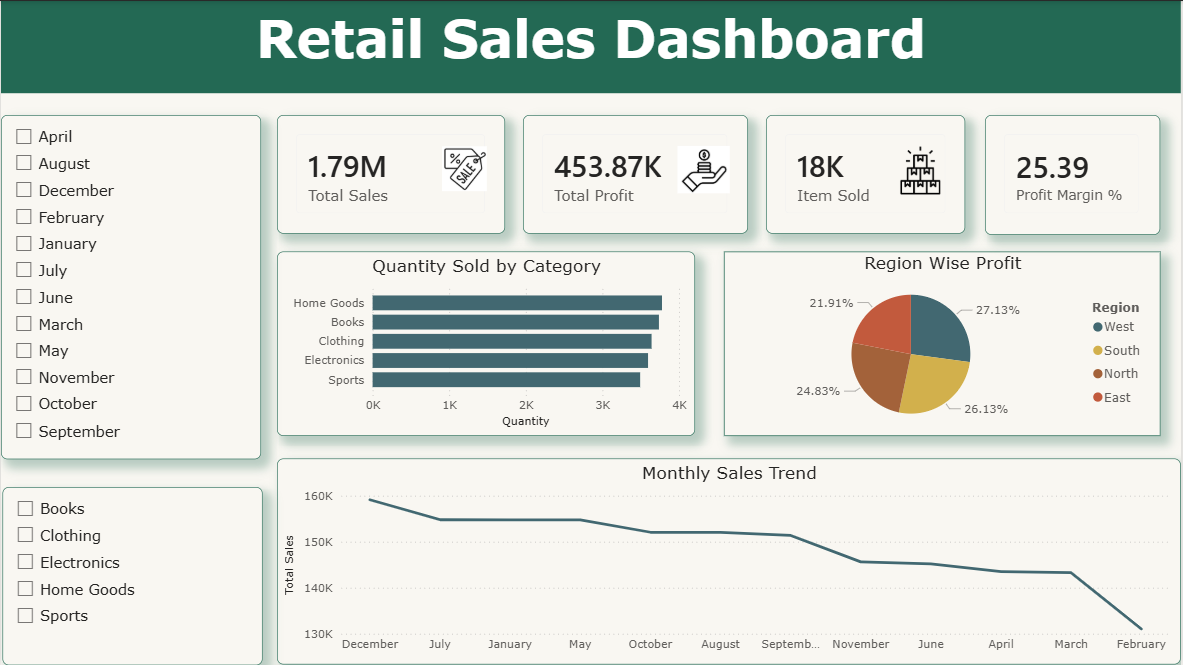

The page's visual inventory and layout, read from the dashboard file:
{"tool":"powerbi","page":{"name":"Page 1","canvas":[1280,720],"ordinal":0},"visuals":[{"type":"textbox","box":[0,0,1279.4,100.2],"z":0},{"type":"lineChart","title":"Monthly Sales Trend","fields":{"Category":["retail_sales_cleaned_data.Month"],"Y":["Sum(retail_sales_cleaned_data.Sales)"]},"box":[300,496.7,980,223.3],"z":1000},{"type":"cardVisual","fields":{"Data":["retail_sales_cleaned_data.Total Sales"]},"box":[299.3,123.6,247.2,128.5],"z":2000},{"type":"cardVisual","fields":{"Data":["retail_sales_cleaned_data.Total Profit"]},"box":[566,123.6,244,128.5],"z":3000},{"type":"cardVisual","fields":{"Data":["retail_sales_cleaned_data.Total Quantity"]},"box":[829.5,123.6,216.3,128.5],"z":4000},{"type":"pieChart","title":"Region Wise Profit","fields":{"Category":["retail_sales_cleaned_data.Region"],"Y":["Sum(retail_sales_cleaned_data.Profit)"]},"box":[783.3,271.7,473.3,200],"z":5000},{"type":"clusteredBarChart","title":"Quantity Sold by Category","fields":{"Category":["retail_sales_cleaned_data.Category"],"Y":["Sum(retail_sales_cleaned_data.Quantity)"]},"box":[300,271.7,453.3,200],"z":6000},{"type":"slicer","fields":{"Values":["retail_sales_cleaned_data.Month"]},"box":[0,123.3,281.7,373.3],"z":7000},{"type":"image","box":[478.2,152.9,48.8,58.6],"z":8000},{"type":"image","box":[733.6,154.5,56.9,56.9],"z":9000},{"type":"image","box":[961.3,156.1,71.6,55.3],"z":10000},{"type":"slicer","fields":{"Values":["retail_sales_cleaned_data.Category"]},"box":[1.7,526.7,281.7,193.3],"z":11000},{"type":"cardVisual","fields":{"Data":["retail_sales_cleaned_data.Profit Margin"]},"box":[1067,123.6,190.3,130.1],"z":11001}]}

Visuals, with their boxes in screenshot pixels (x1, y1, x2, y2), scaled from the page's 1280x720 canvas onto the 1183x665 screenshot:
textbox: locate(0, 0, 1182, 93)
"Monthly Sales Trend" lineChart: locate(277, 459, 1182, 664)
cardVisual - retail_sales_cleaned_data.Total Sales: locate(277, 114, 505, 233)
cardVisual - retail_sales_cleaned_data.Total Profit: locate(523, 114, 749, 233)
cardVisual - retail_sales_cleaned_data.Total Quantity: locate(767, 114, 967, 233)
"Region Wise Profit" pieChart: locate(724, 251, 1161, 436)
"Quantity Sold by Category" clusteredBarChart: locate(277, 251, 696, 436)
slicer - retail_sales_cleaned_data.Month: locate(0, 114, 260, 459)
image: locate(442, 141, 487, 195)
image: locate(678, 143, 731, 195)
image: locate(888, 144, 955, 195)
slicer - retail_sales_cleaned_data.Category: locate(2, 486, 262, 664)
cardVisual - retail_sales_cleaned_data.Profit Margin: locate(986, 114, 1162, 234)
